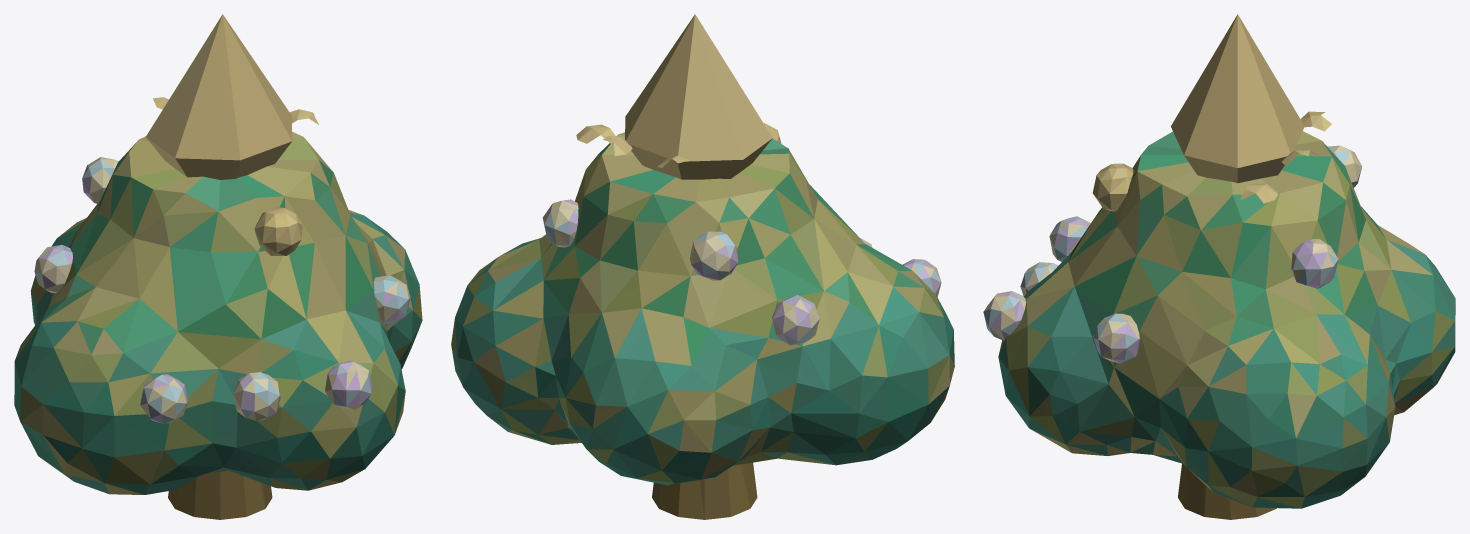
The model's file is Infinity_Berry_Bush.glb.
3 views of the same model, side by side, from view 1: azimuth 30°, elevation 25°; view 2: azimuth 150°, elevation 25°; view 3: azimuth 270°, elevation 25° (orthographic).
Visible parts, largest first — view 1: Infinity_Berry_Bush; view 2: Infinity_Berry_Bush; view 3: Infinity_Berry_Bush.
Boxes of the visible parts, left/top/right/bottom form: Infinity_Berry_Bush: left=14, top=14, right=422, bottom=519; Infinity_Berry_Bush: left=451, top=14, right=954, bottom=519; Infinity_Berry_Bush: left=983, top=14, right=1455, bottom=519.
Bounding box in the file's own units: 3.55 × 3.85 × 3.39.
